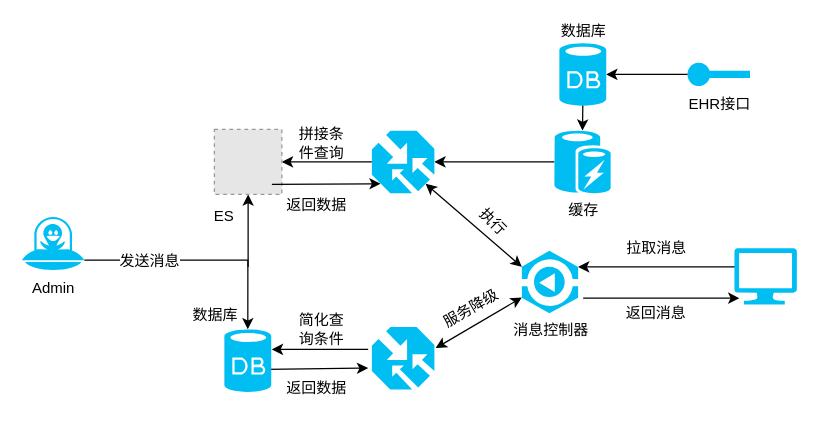
The diagram is 818 pixels wide and 436 high, and some of its shapes have lost their labels. Grey dashed boxes stand in for pictures. The centre of each missing label's shape, as x and y in pixels:
DB查询器: pixel 402 357
ES查询器: pixel 402 161
